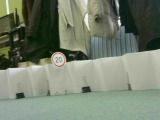speed_20: (49, 50, 68, 68)
